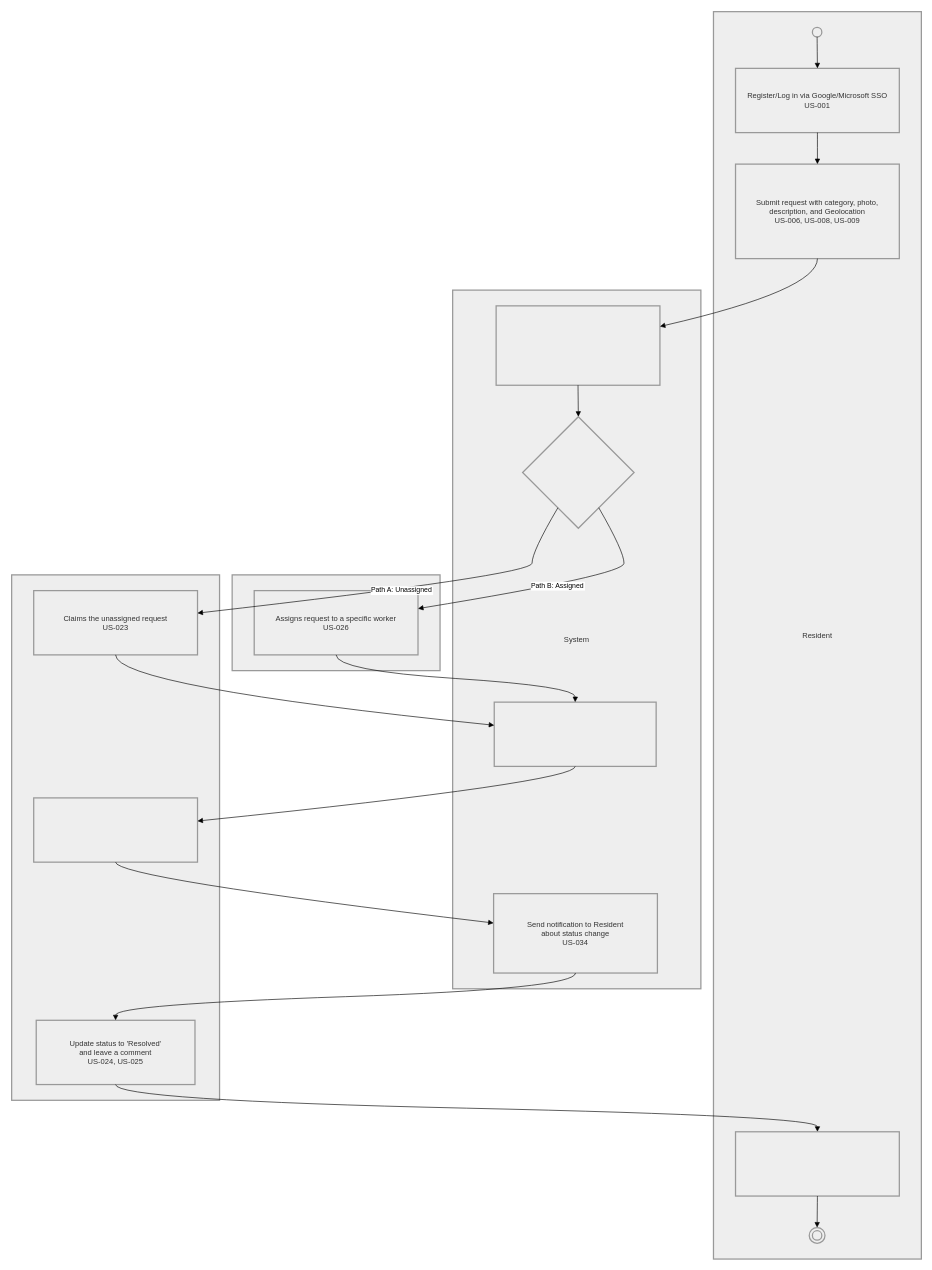
Image size: 932x1270. Some labels were removed from this diagram. Each missing label, with the centre of its shape:
"Automatically tag ward and municipality using SA Data boundaries US-011, US-014" belongs at point (577, 345).
"Confirm completion and submit satisfaction rating US-24.5, US-036" belongs at point (817, 1163).
"Is the request assigned?" belongs at point (578, 472).
"Send notification to Worker about new assignment US-037" belongs at point (574, 734).
"Update status to 'In Progress' US-024" belongs at point (115, 829).
